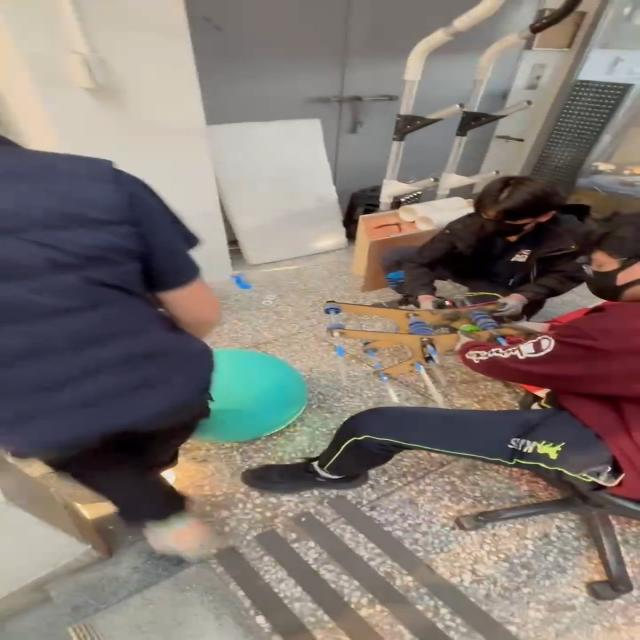ALGAE: (188, 346, 310, 444)
